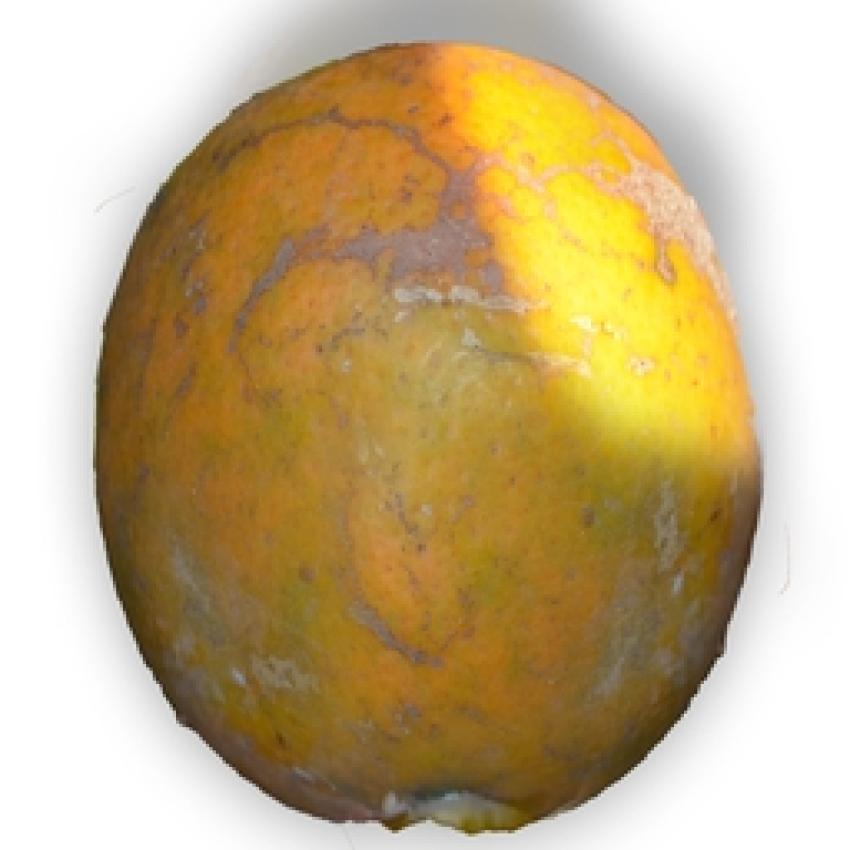Mal estado: (71, 19, 785, 842)
